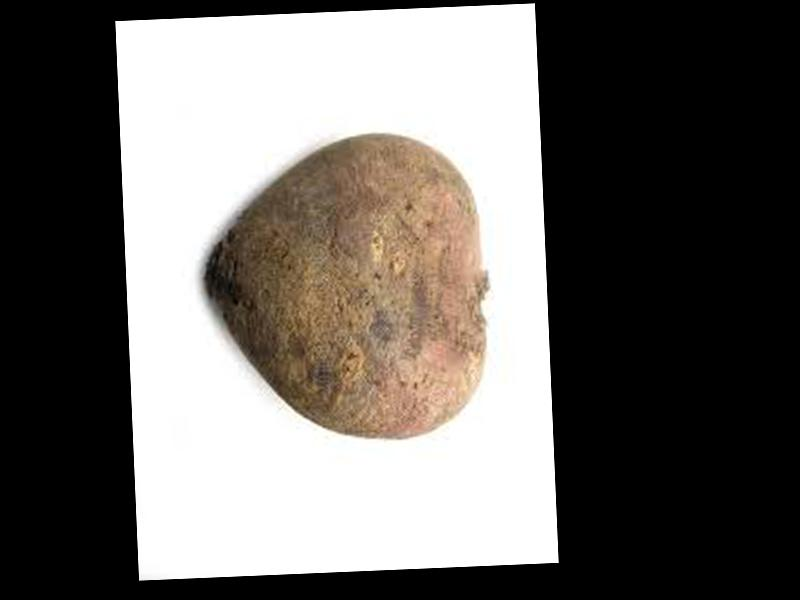Beet: (200, 127, 492, 448)
